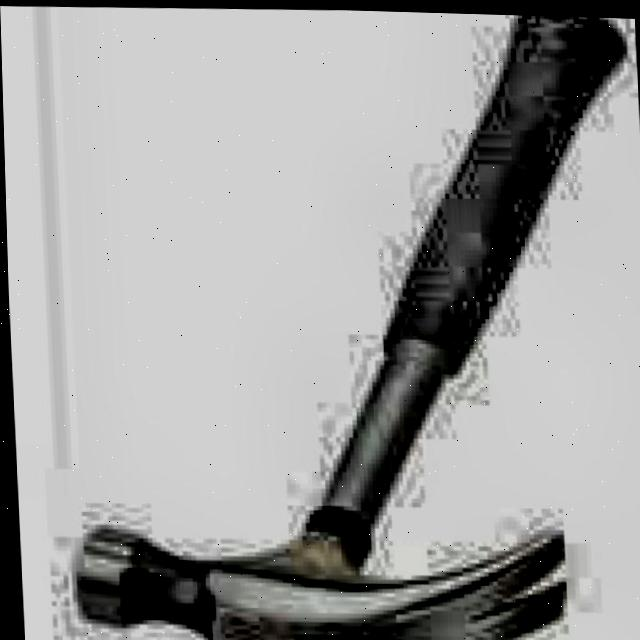hammer: (43, 1, 640, 640)
